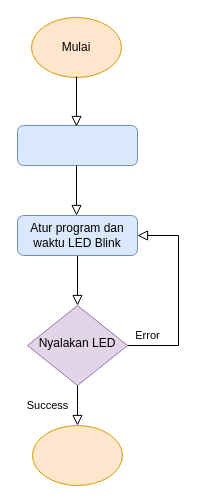
The diagram is 206 pixels wide and 503 high, and some of its shapes have lost their labels. Each missing label, with the centre of its shape:
"Inisialisasi pin LED dan Variable" belongs at (77,145).
"Selesai" belongs at (77,455).
